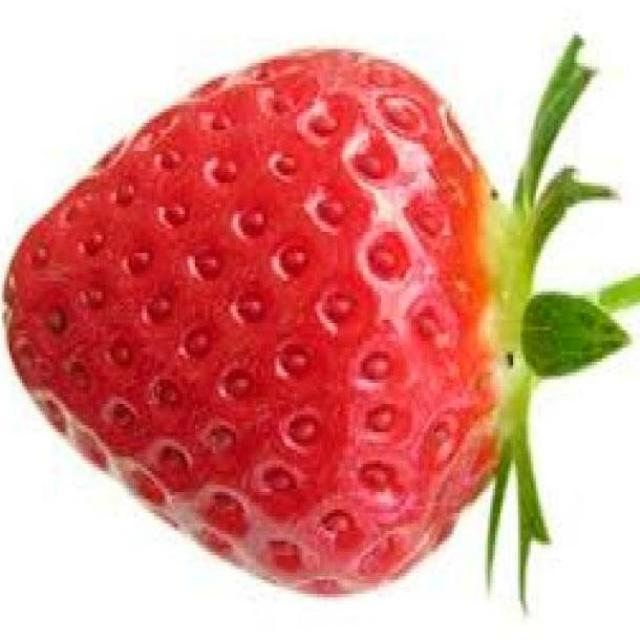Healthy Fruit: (1, 45, 508, 598)
